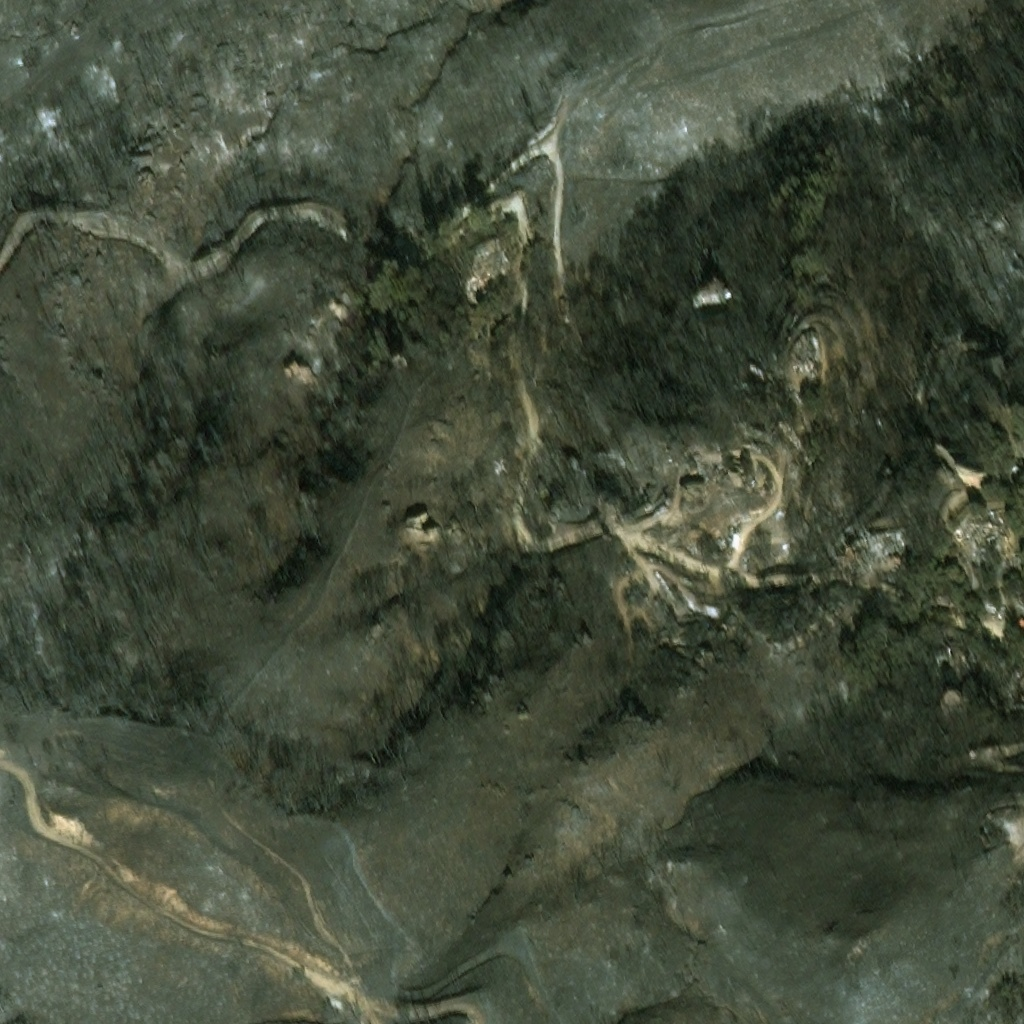2 major-damage: (694, 286, 722, 305)
3 destroyed: (972, 524, 1008, 554), (875, 532, 907, 564), (463, 269, 492, 299), (789, 339, 813, 370), (409, 523, 439, 545), (976, 737, 1007, 757), (630, 616, 646, 641), (946, 647, 964, 668), (748, 424, 769, 439), (944, 685, 961, 702), (660, 507, 680, 520), (685, 475, 705, 488), (710, 527, 726, 542), (683, 537, 702, 549), (1009, 459, 1023, 475), (721, 515, 736, 529), (739, 543, 748, 558), (691, 440, 704, 450), (486, 240, 499, 248), (1015, 681, 1023, 694), (1015, 614, 1023, 626), (494, 256, 503, 265), (773, 507, 783, 514), (751, 480, 756, 485)
